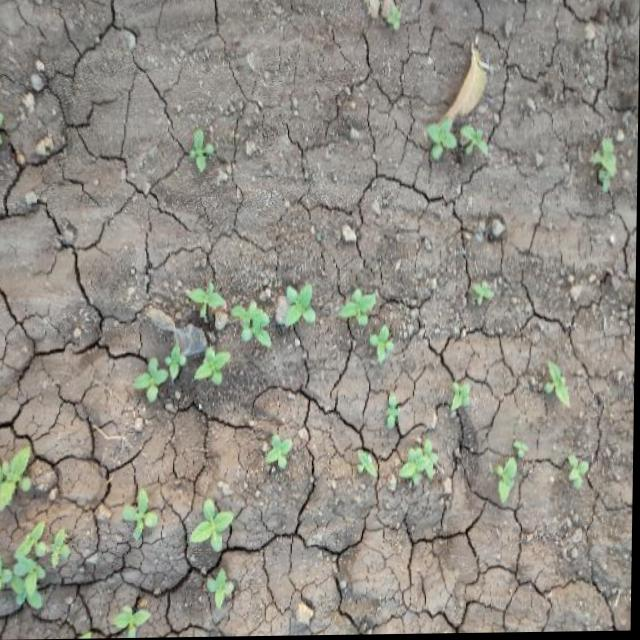crop: (0, 455, 79, 625), (236, 281, 327, 341), (353, 442, 444, 489), (346, 289, 398, 364), (419, 119, 494, 162), (191, 500, 242, 553), (135, 352, 188, 402), (118, 486, 162, 541), (585, 137, 621, 198), (540, 361, 578, 412), (204, 568, 242, 613), (185, 129, 222, 175), (262, 432, 301, 473), (197, 350, 232, 385)
